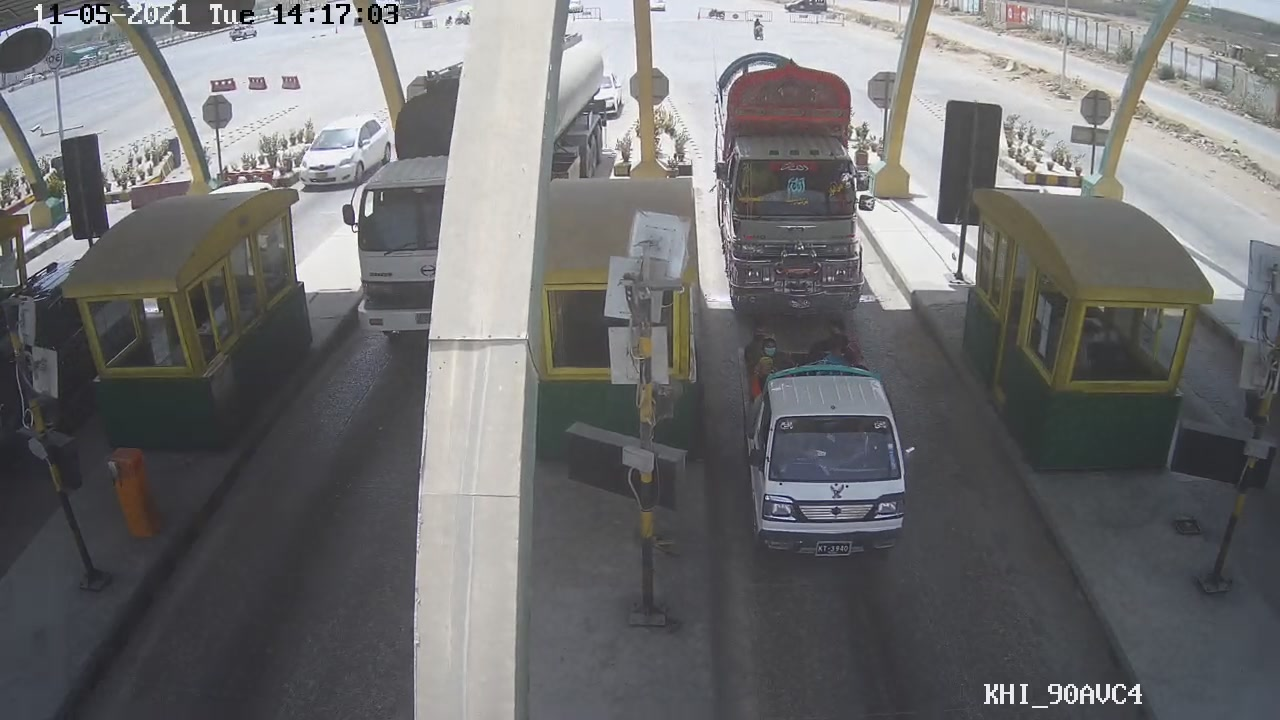F1: (725, 351, 915, 568)
